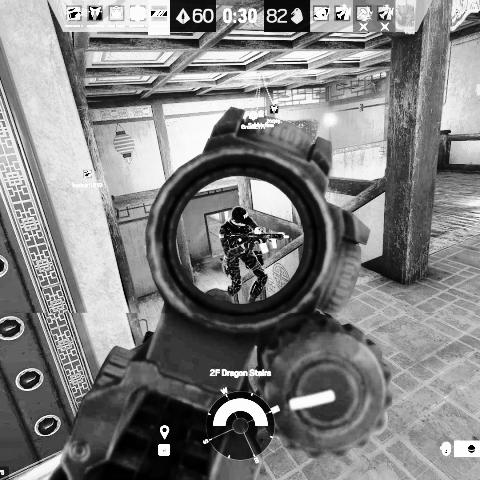Character: (218, 205, 290, 306)
Friend_label: (72, 168, 103, 189), (241, 109, 266, 131), (248, 110, 274, 128), (266, 105, 283, 124)
Head: (230, 206, 252, 228)
